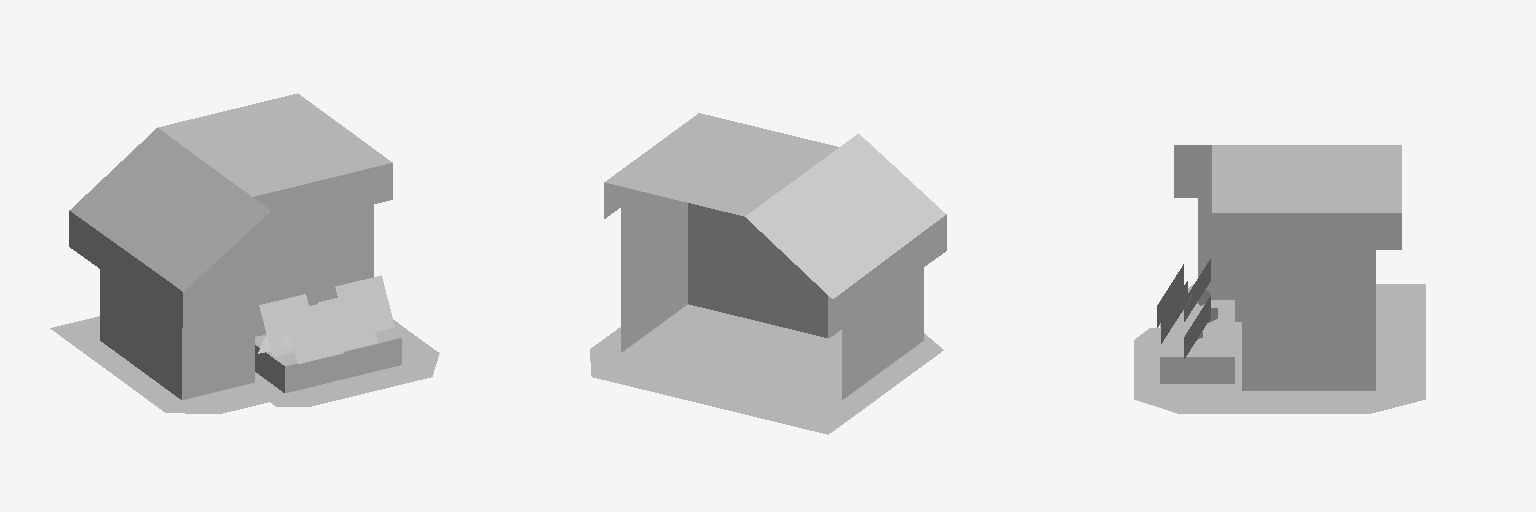
The model's file is Celadon City House.obj.
3 views of the same model, side by side, from view 1: azimuth 30°, elevation 25°; view 2: azimuth 150°, elevation 25°; view 3: azimuth 270°, elevation 25° (orthographic).
Parts seen in each view (by area): view 1: polygon2, polygon1, polygon0; view 2: polygon2, polygon1; view 3: polygon2, polygon1.
Boxes of the visible parts, x1,y1,x2,y2 form: polygon2: [69, 93, 401, 399]; polygon1: [50, 316, 439, 413]; polygon0: [216, 248, 342, 342]; polygon2: [604, 113, 946, 399]; polygon1: [590, 304, 943, 434]; polygon2: [1157, 145, 1401, 390]; polygon1: [1134, 284, 1425, 413].
Size of the model in its own units: 82.19 by 54.8 by 77.73.